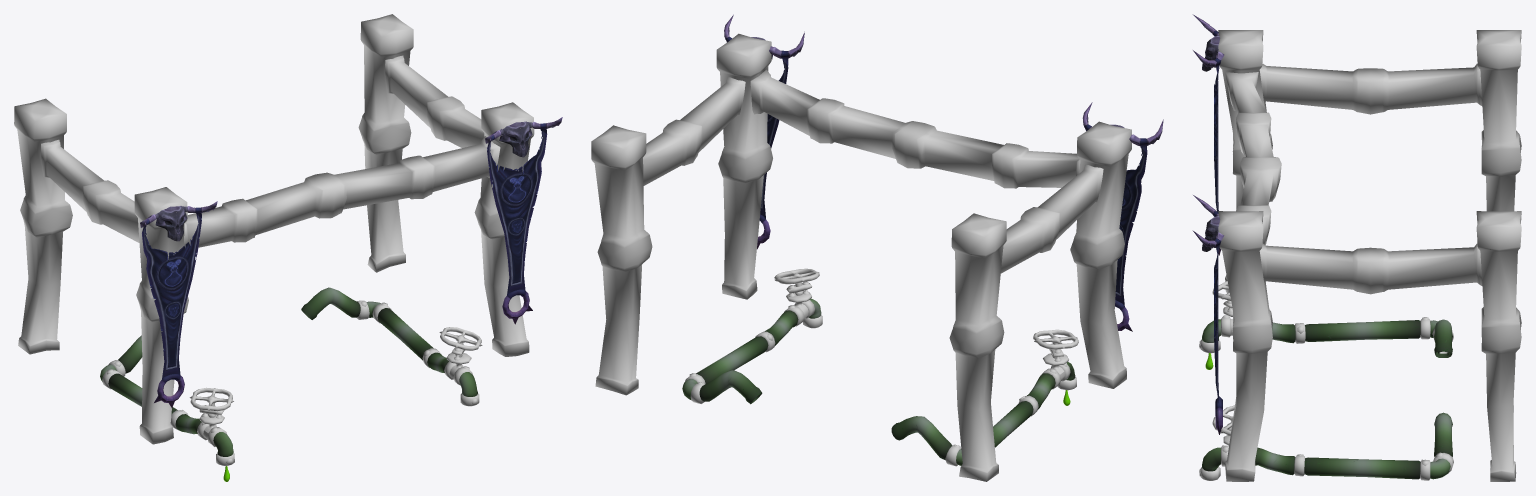
Rendered from zhuanshi.fbx.
3 views of the same model, side by side, from view 1: azimuth 30°, elevation 25°; view 2: azimuth 150°, elevation 25°; view 3: azimuth 270°, elevation 25° (orthographic). The views are drawn at different scales.
Parts seen in each view (by area): view 1: WoodenSupport, Plane024, group2, Line002; view 2: WoodenSupport, group2, Plane024, Line002; view 3: WoodenSupport, group2, Plane024, Line002.
Boxes of the visible parts, bbox=[...] form: WoodenSupport: bbox=[14, 14, 534, 444]; Plane024: bbox=[140, 117, 562, 407]; group2: bbox=[100, 287, 482, 481]; Line002: bbox=[102, 300, 479, 465]; WoodenSupport: bbox=[591, 33, 1131, 481]; group2: bbox=[682, 268, 1078, 465]; Plane024: bbox=[724, 14, 1163, 331]; Line002: bbox=[685, 300, 1076, 466]; WoodenSupport: bbox=[1218, 30, 1521, 481]; group2: bbox=[1202, 281, 1452, 479]; Plane024: bbox=[1192, 14, 1224, 434]; Line002: bbox=[1199, 315, 1453, 480].
Bounding box in the file's own units: 2221 × 1471 × 1410.
